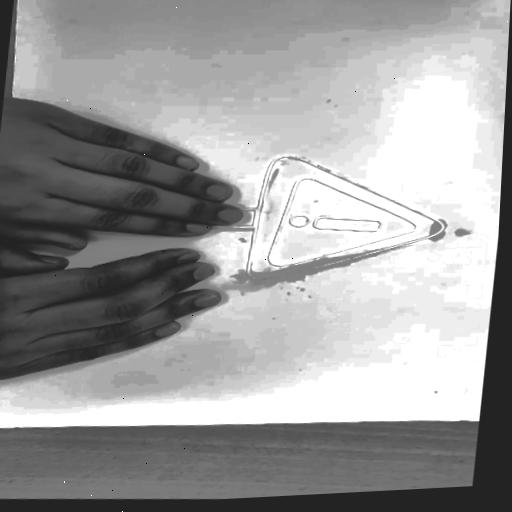bottom_right: (0, 425, 5, 433)
signboard: (92, 148, 458, 294)
